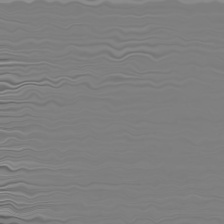cavities: (74, 68, 199, 121)
